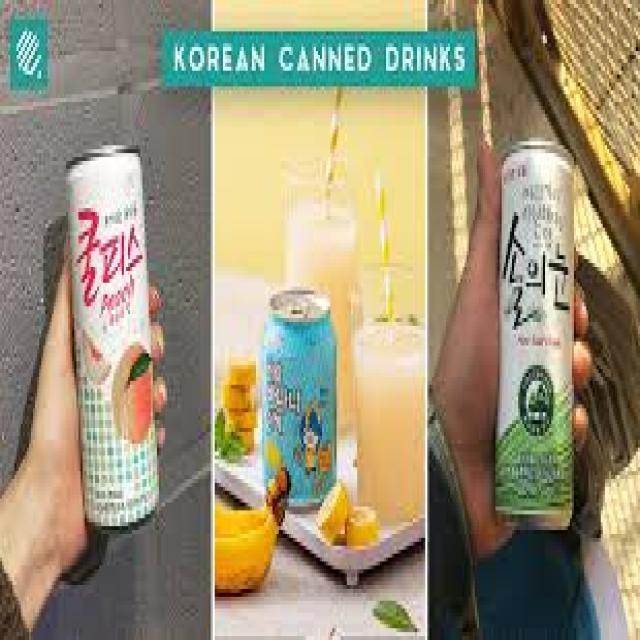Cans: (62, 133, 163, 542), (489, 137, 580, 534), (258, 279, 343, 510)
